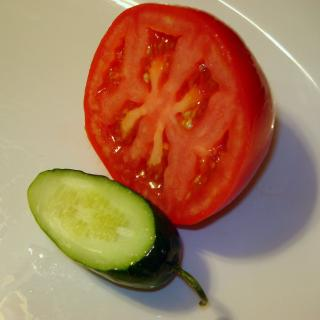tomato: (80, 4, 274, 229)
